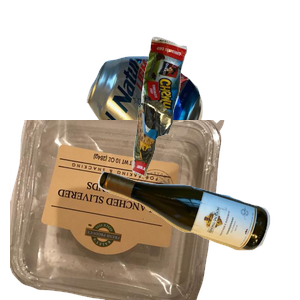glass: (95, 168, 300, 300)
metal: (84, 53, 279, 202)
plastic: (10, 120, 227, 300)
trash: (130, 34, 300, 203)
